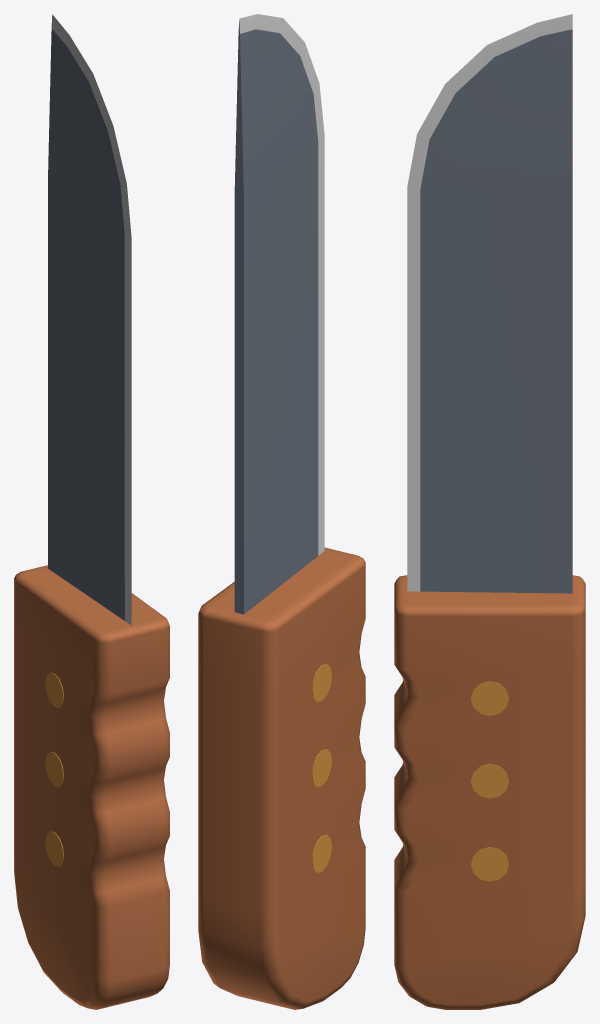
File: Knife_new.fbx
3 renders of one model, left to right at view 1: azimuth 30°, elevation 25°; view 2: azimuth 150°, elevation 25°; view 3: azimuth 270°, elevation 25°, orthographic. The views are drawn at different scales.
Visible parts, largest first — view 1: Knife_handle, Knife_blade; view 2: Knife_handle, Knife_blade; view 3: Knife_blade, Knife_handle.
Boxes of the visible parts, box(x1,y1,x2,y2) form: Knife_handle: box(14, 565, 169, 1009); Knife_blade: box(48, 14, 131, 625); Knife_handle: box(198, 547, 365, 1009); Knife_blade: box(234, 14, 324, 614); Knife_blade: box(407, 14, 572, 593); Knife_handle: box(394, 575, 585, 1009).
Size of the model in its own units: 70.94 by 850 by 150.
